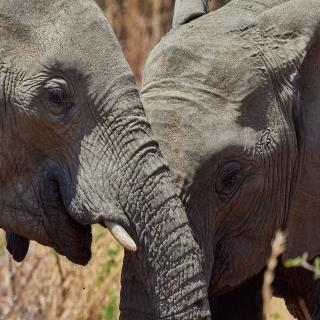Elephant: (0, 1, 213, 320), (129, 0, 320, 308)
